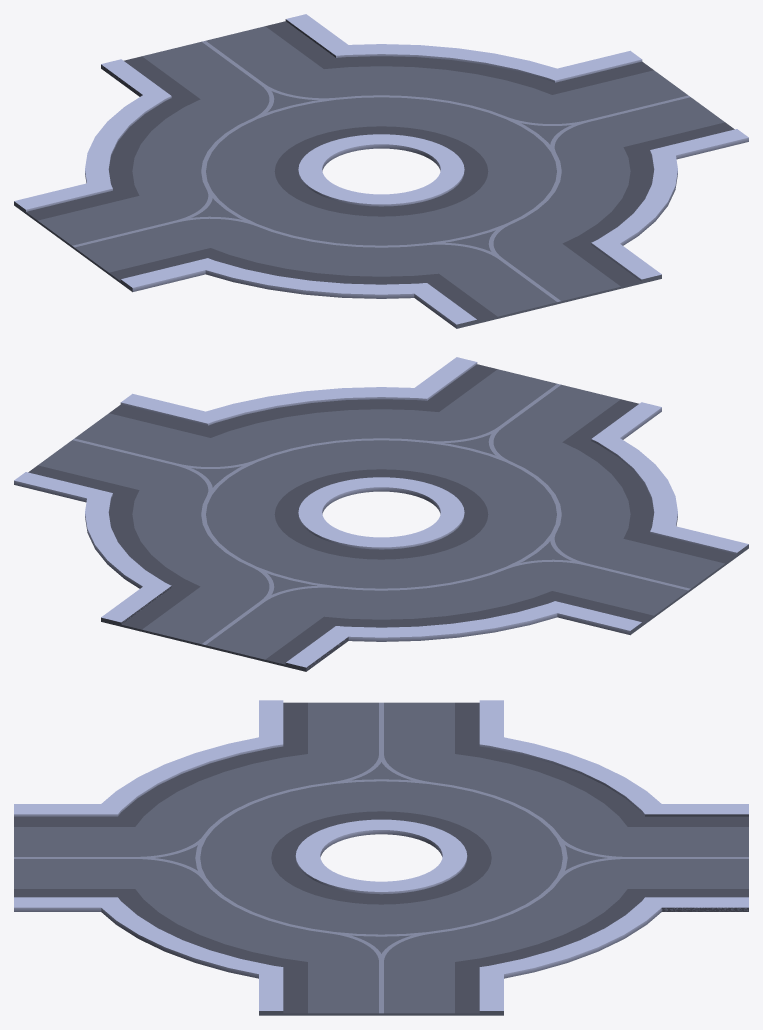
The model's file is road-roundabout.glb.
The picture shows the model from 3 angles, top to bottom: view 1: azimuth 30°, elevation 25°; view 2: azimuth 150°, elevation 25°; view 3: azimuth 270°, elevation 25°; orthographic projection. The views are drawn at different scales.
Parts seen in each view (by area): view 1: road-roundabout; view 2: road-roundabout; view 3: road-roundabout.
Part boxes in pixels (left/top/right/bottom): road-roundabout: left=14, top=14, right=748, bottom=328; road-roundabout: left=14, top=357, right=748, bottom=671; road-roundabout: left=14, top=700, right=748, bottom=1015.
Bounding box in the file's own units: 3 × 0.02 × 3.
Materials: 1 (1 with a texture image).
